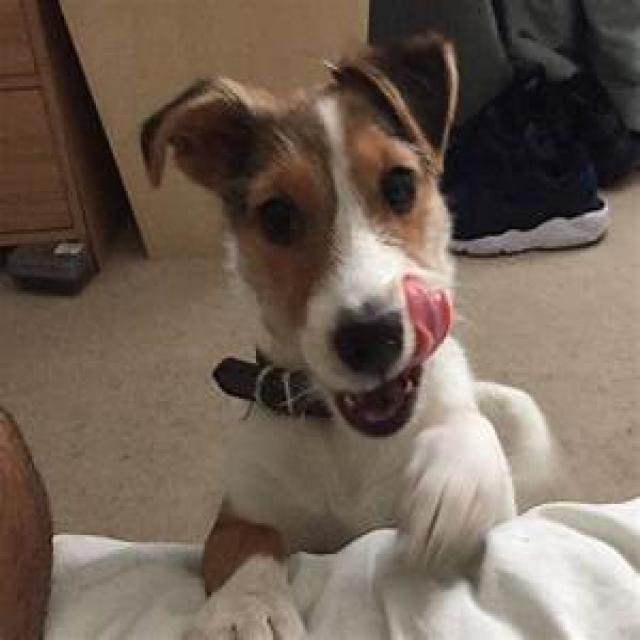animal: (136, 56, 492, 566)
